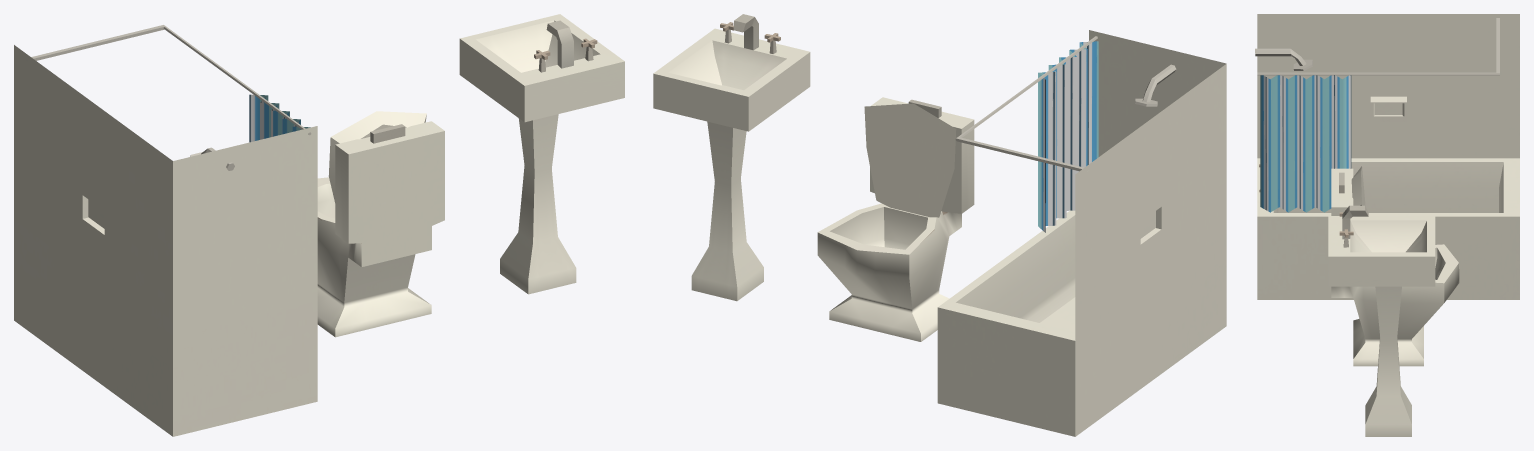
Rendered from Bathroom_ellen.fbx.
3 views of the same model, side by side, from view 1: azimuth 30°, elevation 25°; view 2: azimuth 150°, elevation 25°; view 3: azimuth 270°, elevation 25° (orthographic). The views are drawn at different scales.
Visible parts, largest first — view 1: pCube5, pCube6, pCube4; view 2: pCube5, pCube6, pCube4; view 3: pCube5, pCube4, pCube6.
Boxes of the visible parts, bbox=[...] form: pCube5: bbox=[14, 25, 317, 436]; pCube6: bbox=[317, 111, 444, 337]; pCube4: bbox=[459, 14, 624, 294]; pCube5: bbox=[937, 30, 1226, 436]; pCube6: bbox=[817, 97, 974, 341]; pCube4: bbox=[653, 14, 810, 301]; pCube5: bbox=[1255, 14, 1519, 299]; pCube4: bbox=[1328, 205, 1435, 436]; pCube6: bbox=[1331, 166, 1459, 366].
Size of the model in its own units: 5.13 by 2.81 by 2.88.
3 materials, 3 textured.
